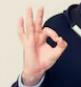left: (16, 4, 66, 74)
